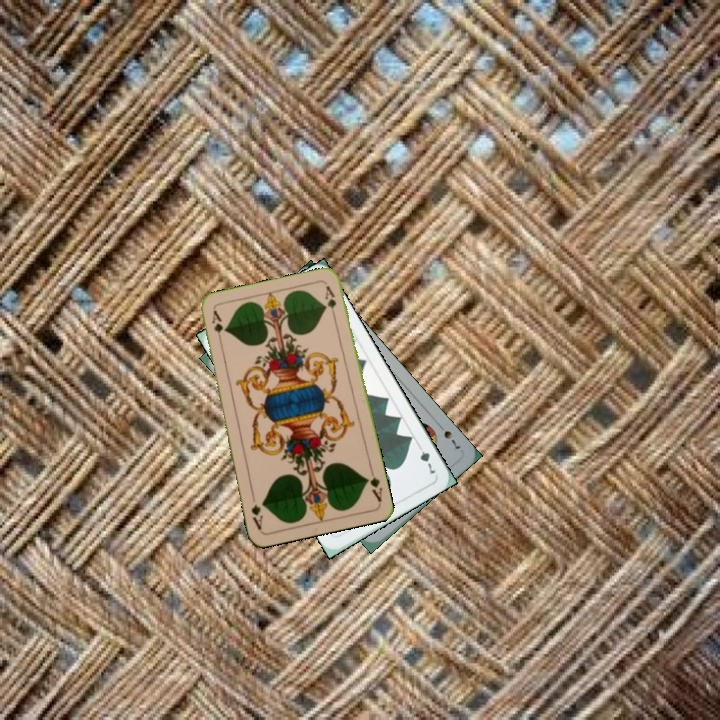G7: (413, 439, 438, 478)
GA: (362, 465, 385, 505), (208, 306, 225, 347)
S7: (433, 419, 464, 452)
